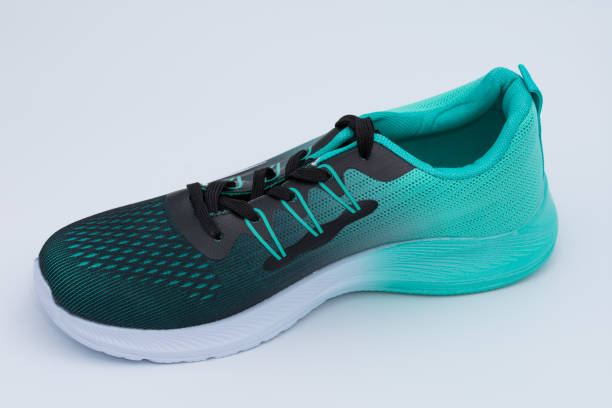Footwear: (28, 59, 571, 361)
